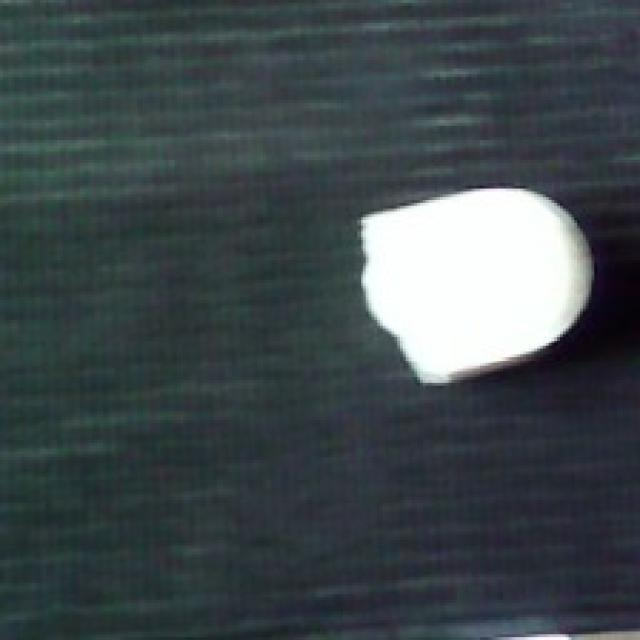defected: (351, 183, 603, 388)
